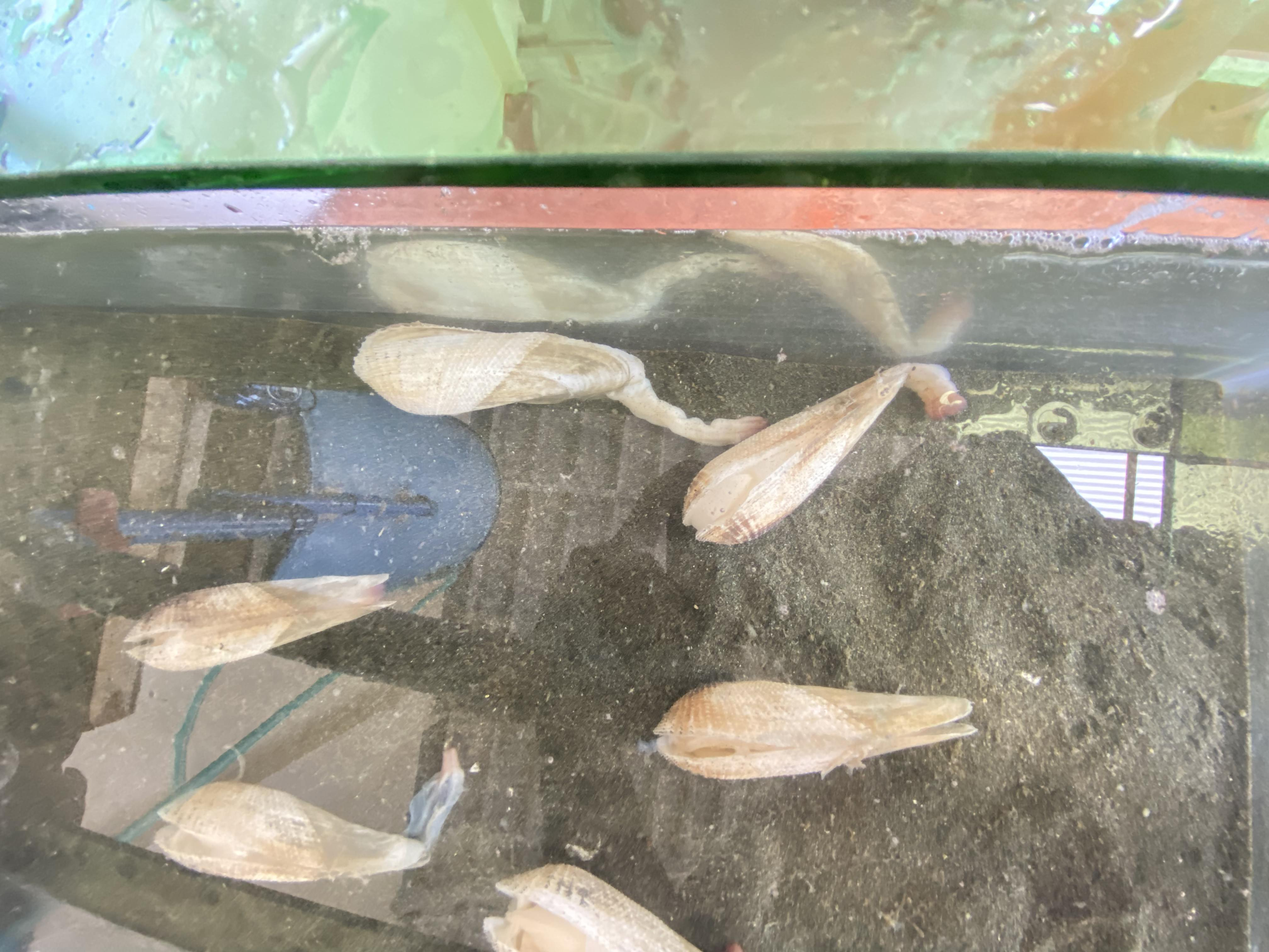At risk: (354, 323, 966, 544), (154, 747, 465, 882), (654, 680, 975, 779), (125, 573, 392, 670), (483, 864, 699, 952)
